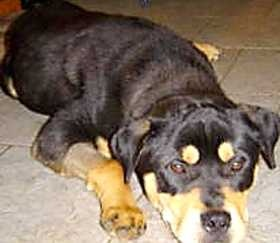dog: (14, 11, 238, 218)
